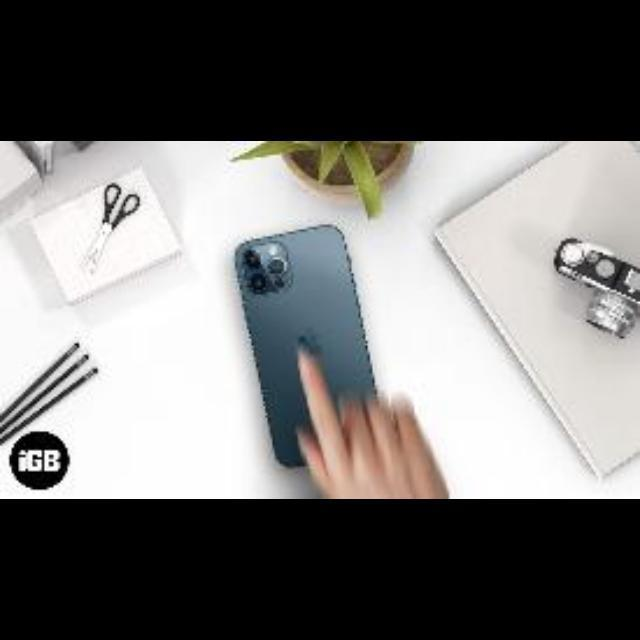phone: (221, 208, 415, 490)
